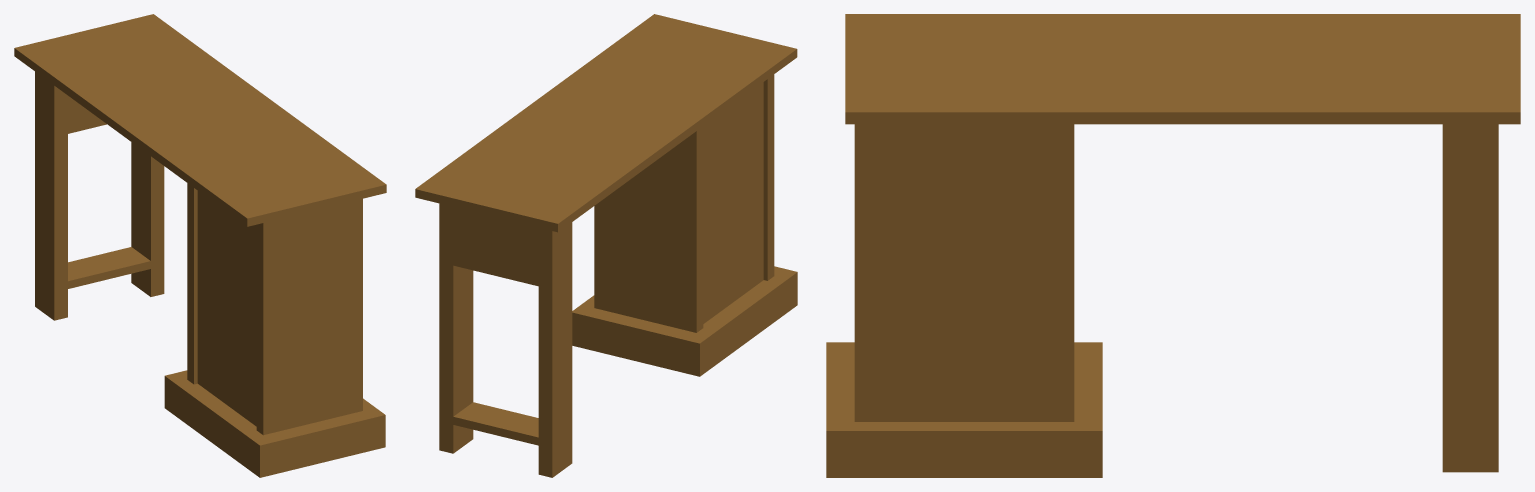
File: study_desk__630f6d76cbcd.glb
The picture shows the model from 3 angles, left to right: view 1: azimuth 30°, elevation 25°; view 2: azimuth 150°, elevation 25°; view 3: azimuth 270°, elevation 25°; orthographic projection. The views are drawn at different scales.
Visible parts, largest first — view 1: cabinet, top, upright, plinth; view 2: top, cabinet, upright, plinth; view 3: top, cabinet, plinth, upright.
Boxes of the visible parts, x1,y1,x2,y2 form: cabinet: [187, 183, 362, 435]; top: [14, 14, 386, 226]; upright: [35, 71, 164, 320]; plinth: [164, 370, 385, 477]; top: [415, 14, 797, 232]; cabinet: [594, 74, 774, 332]; upright: [439, 203, 572, 477]; plinth: [572, 266, 797, 376]; top: [845, 14, 1520, 124]; cabinet: [854, 124, 1074, 421]; plinth: [826, 342, 1102, 477]; upright: [1442, 124, 1498, 472].
Size of the model in its own units: 0.3691 by 0.649 by 1.1.
